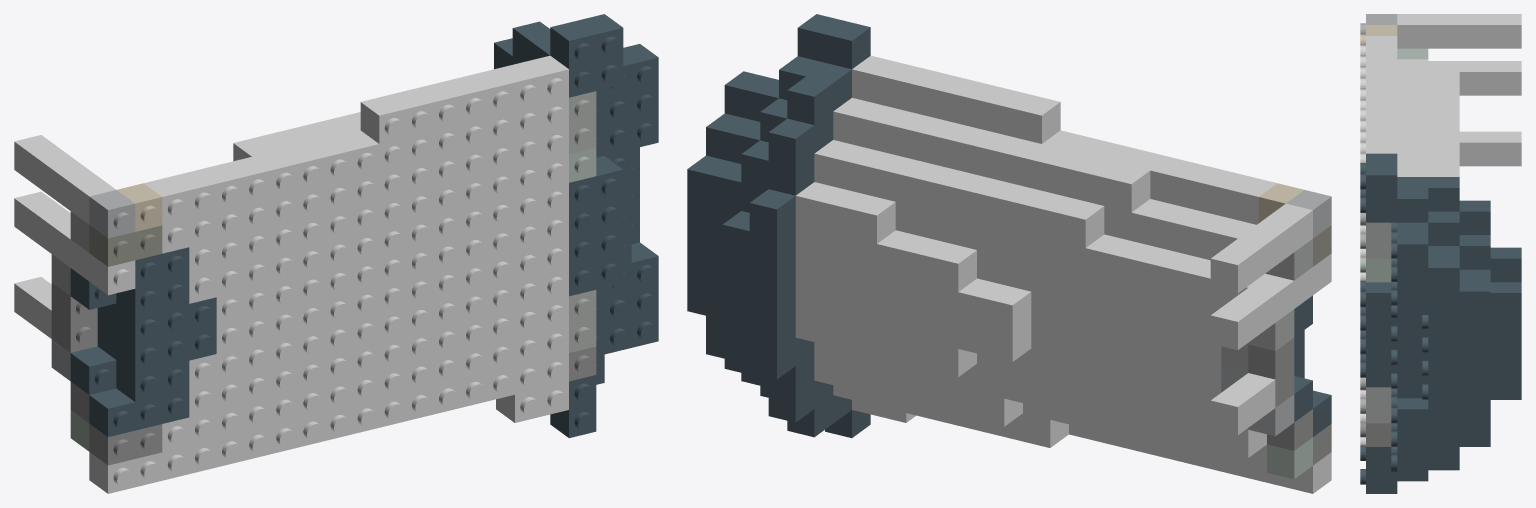
Rendered from full.glb.
The picture shows the model from 3 angles, left to right: view 1: azimuth 30°, elevation 25°; view 2: azimuth 150°, elevation 25°; view 3: azimuth 270°, elevation 25°; orthographic projection. The views are drawn at different scales.
Visible parts, largest first — view 1: world; view 2: world; view 3: world.
Boxes of the visible parts, x1=… form: world: x1=14, y1=14, x2=658, y2=493; world: x1=687, y1=14, x2=1331, y2=493; world: x1=1360, y1=14, x2=1521, y2=493.
Bounding box in the file's own units: 168 × 112 × 49.8.
